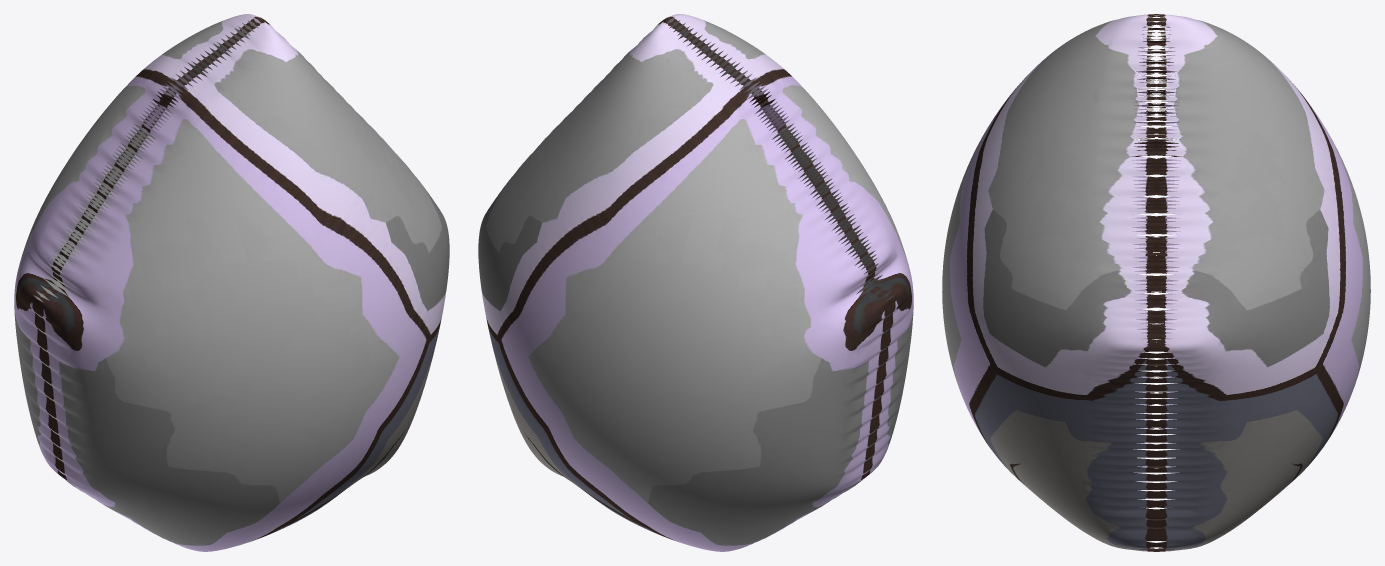
The model's file is cleft_monolith.glb.
The picture shows the model from 3 angles, left to right: view 1: azimuth 30°, elevation 25°; view 2: azimuth 150°, elevation 25°; view 3: azimuth 270°, elevation 25°; orthographic projection. The views are drawn at different scales.
Parts seen in each view (by area): view 1: cleft_monolith; view 2: cleft_monolith; view 3: cleft_monolith.
Part boxes in pixels (x1=…): cleft_monolith: x1=14, y1=14, x2=449, y2=551; cleft_monolith: x1=478, y1=14, x2=913, y2=551; cleft_monolith: x1=942, y1=14, x2=1370, y2=551.
Bounding box in the file's own units: 0.9863 × 1.21 × 0.8762.
Materials: 1 (1 with a texture image).
